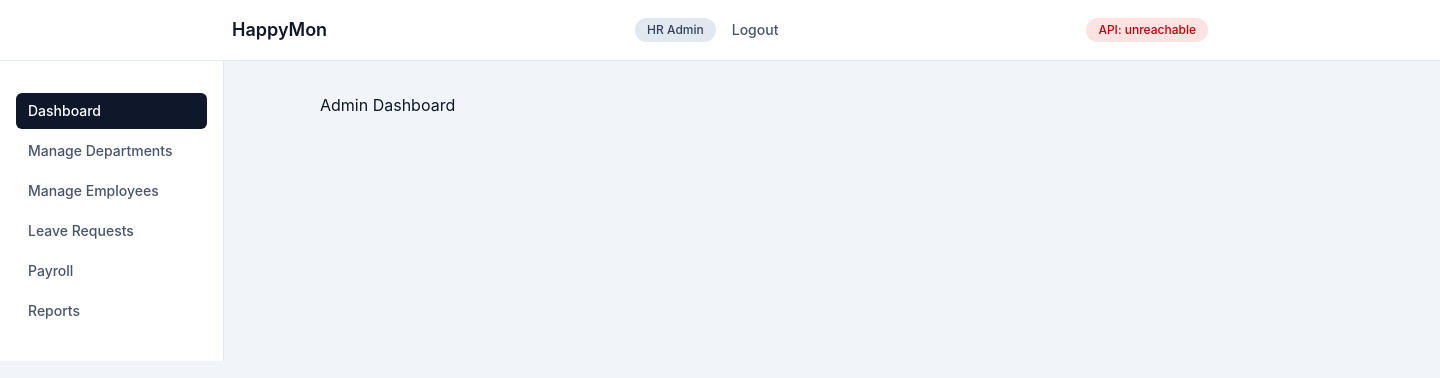
Test: AppLayout › HR_ADMIN › navigates to /admin/leave via the sidebar Leave Requests link
The image size is (1440, 378).
Click the link "Leave Requests": (81, 230) [28,222,134,239]
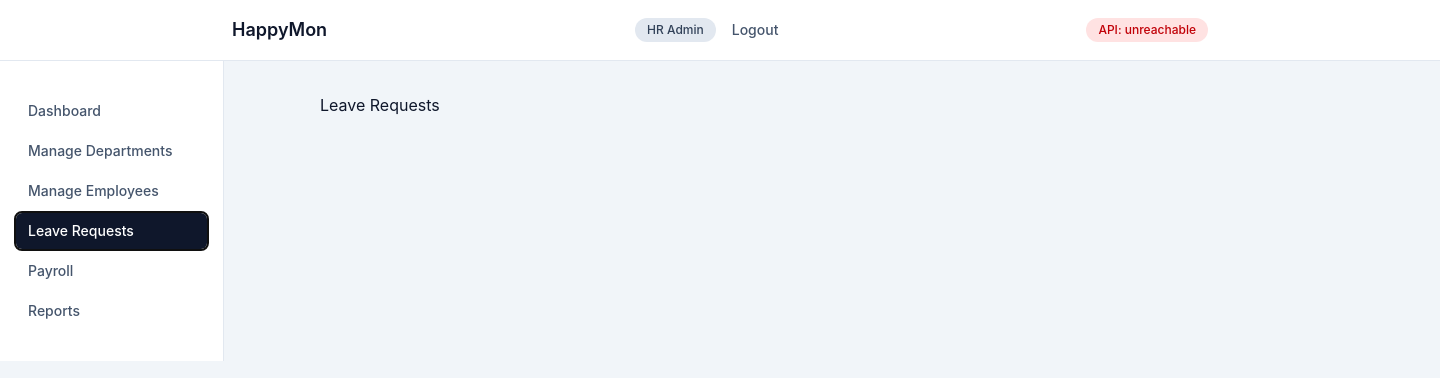
Now the heading "Leave Requests" is shown, box [320,95,440,115]
